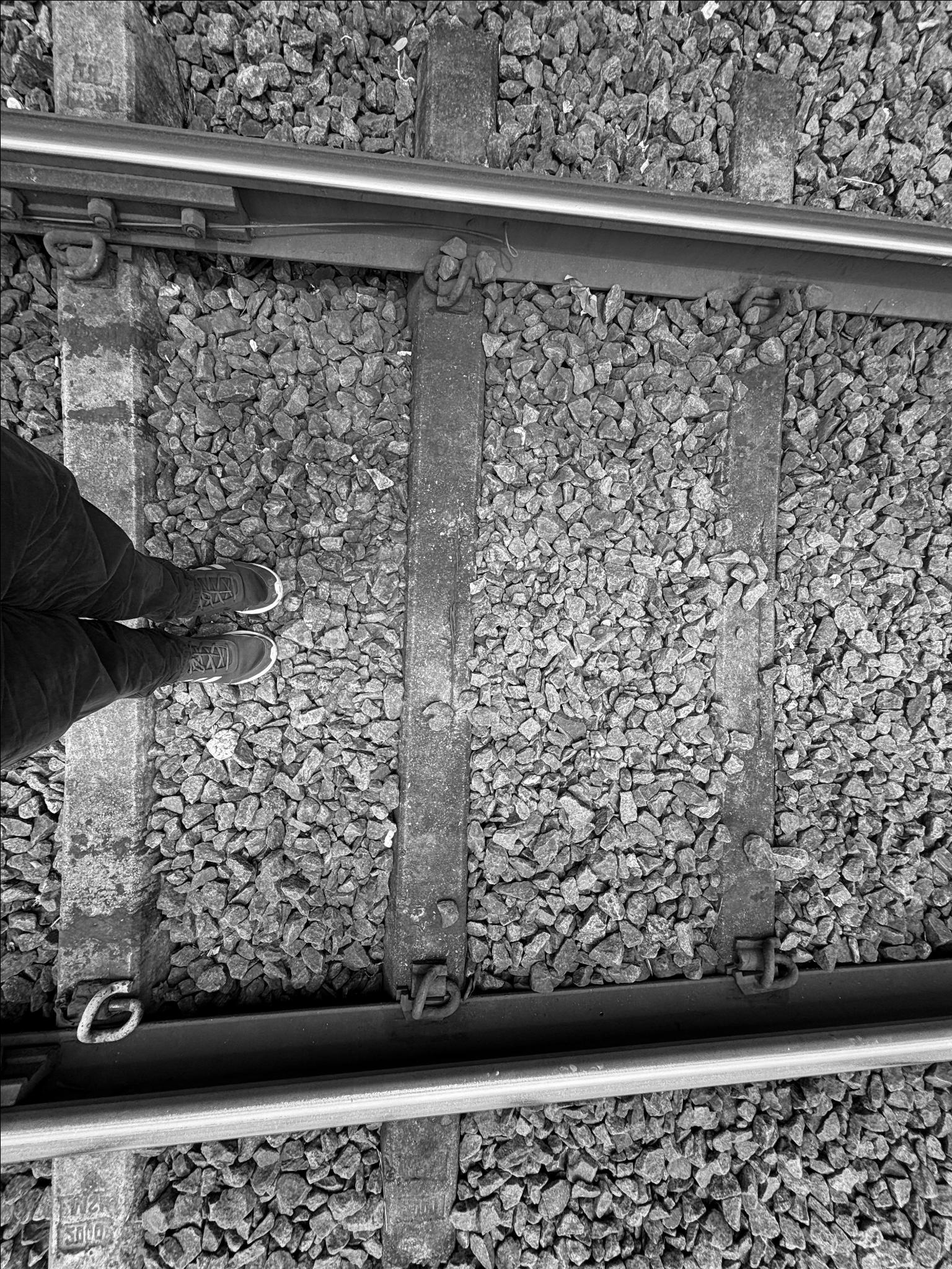cracks in midportion: (735, 499, 783, 771), (425, 487, 467, 755)
